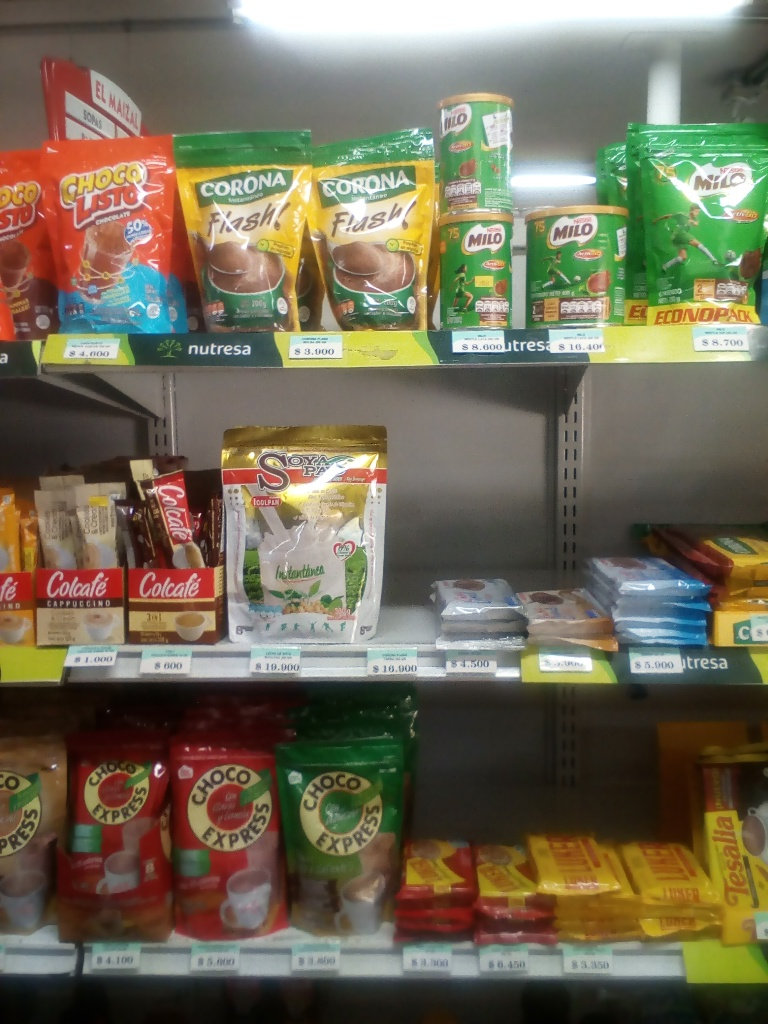COL0170203LAT20000: (441, 212, 518, 327)
